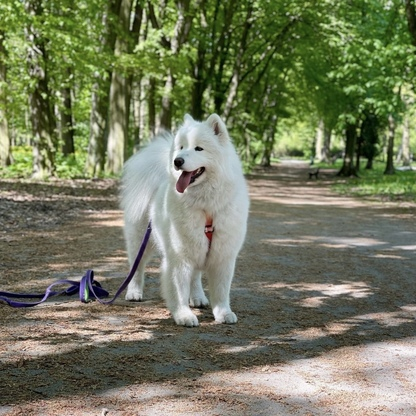samoyed: (115, 110, 255, 329)
